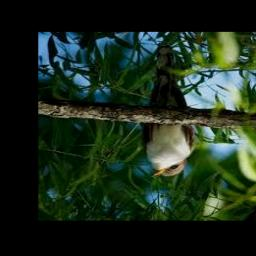Cuckoo: (143, 45, 195, 178)
